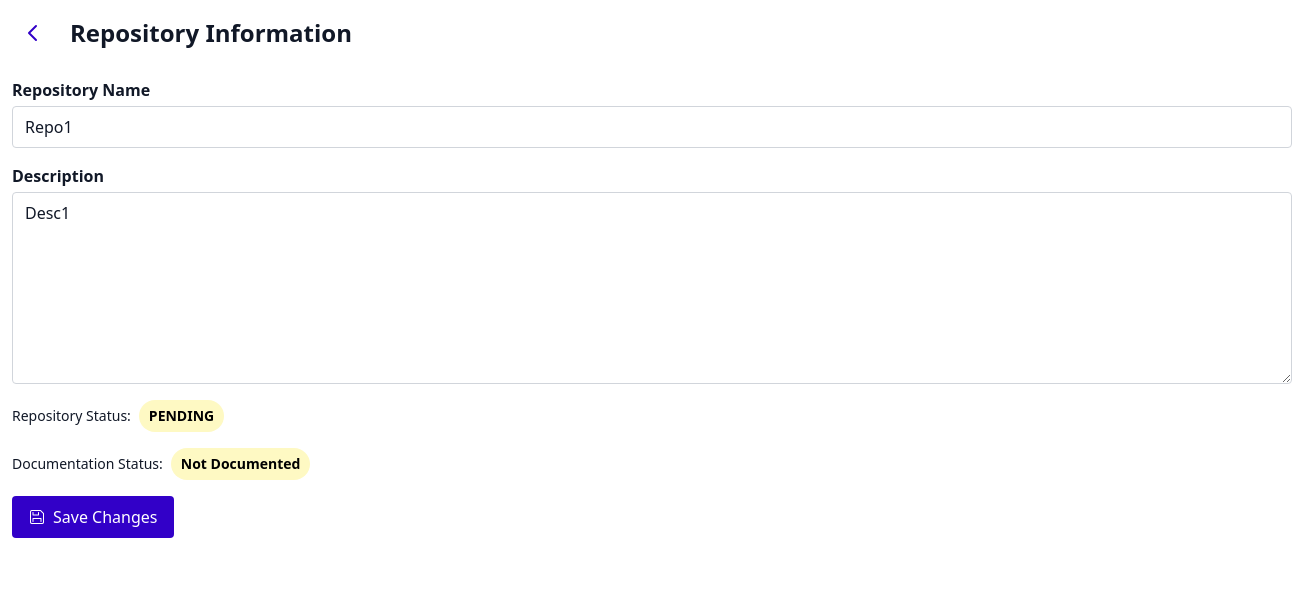
Test case: ShowRepoInformation - unit tests › shows error when trying to rename repo to duplicate name
Replace the text in the field showing "Repo1" with "Repo2". click: [652, 127]
box: [12,106,1292,148]
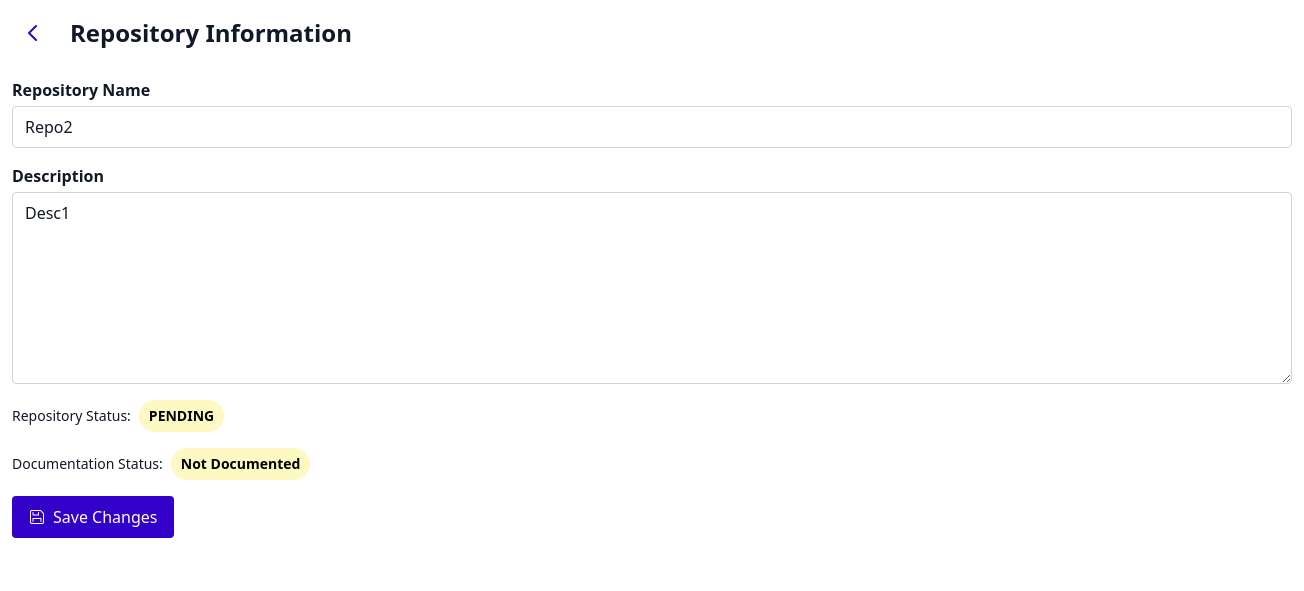
Click the button "Save Changes". click: [93, 517]
box: [12,496,174,538]
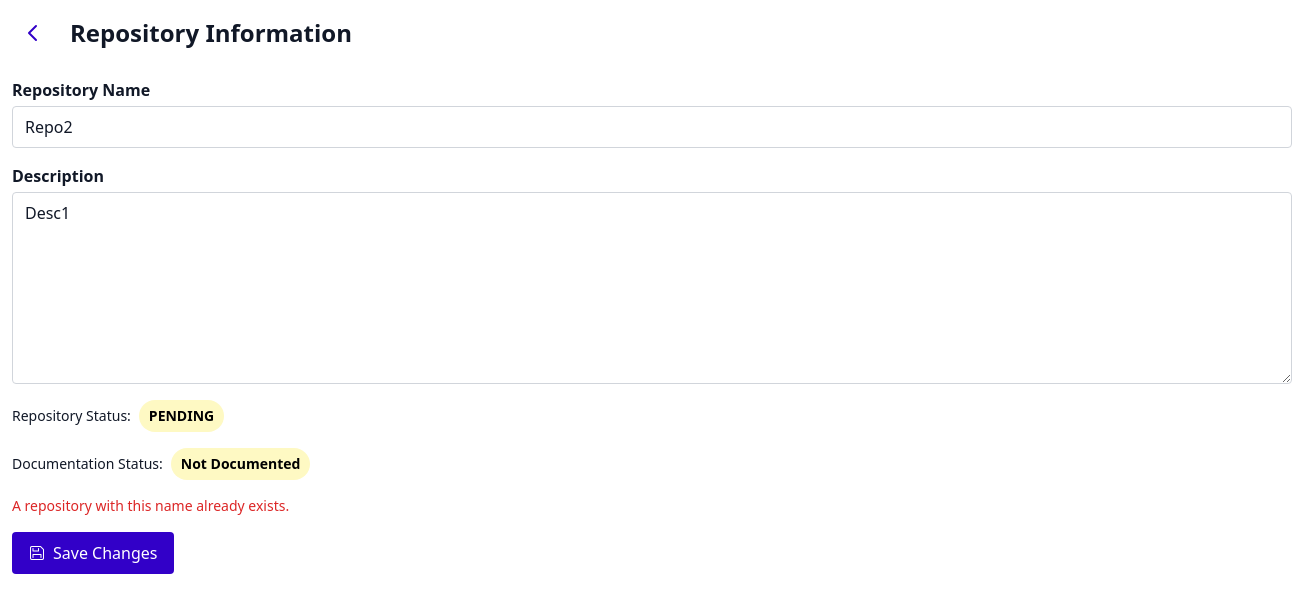
Result: the text "A repository with this name already exists." is shown at [12,496,289,515]
